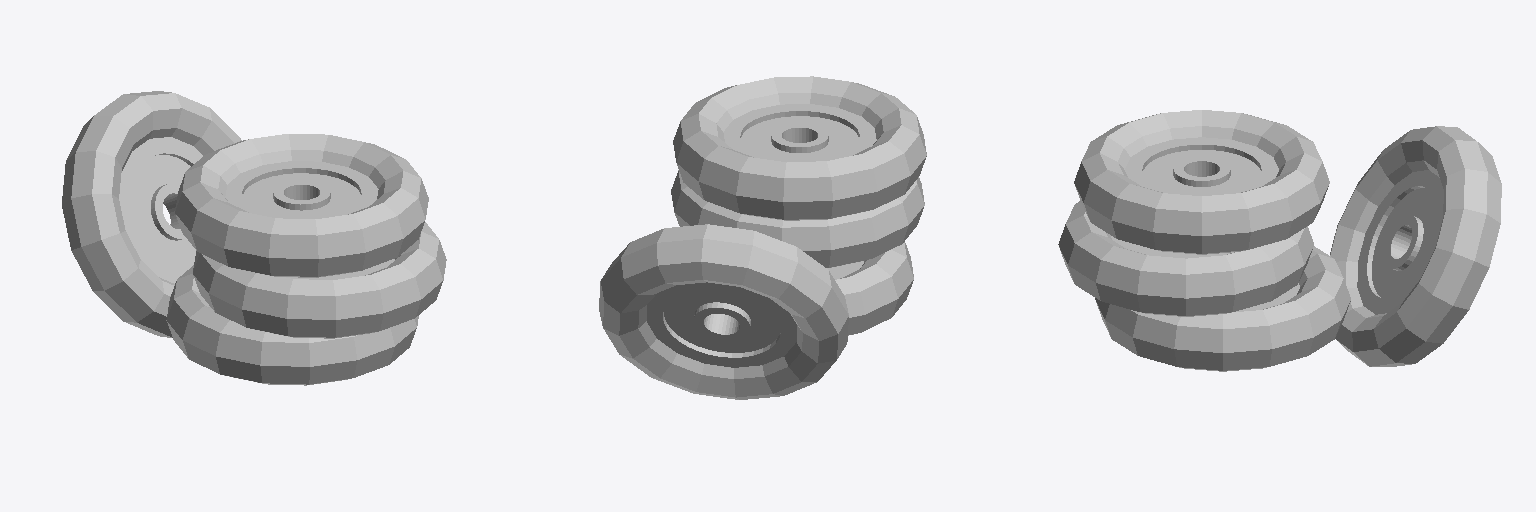
Rendered from stacked_tires.obj.
3 views of the same model, side by side, from view 1: azimuth 30°, elevation 25°; view 2: azimuth 150°, elevation 25°; view 3: azimuth 270°, elevation 25° (orthographic).
Visible parts, largest first — view 1: Torus, Torus.003, Torus.001, Torus.002; view 2: Torus.003, Torus, Torus.001, Torus.002; view 3: Torus.003, Torus, Torus.001, Torus.002.
Part boxes in pixels (x1,y1,x2,y2): Torus: (175,134,428,277); Torus.003: (62,91,241,337); Torus.001: (193,222,446,338); Torus.002: (166,265,418,385); Torus.003: (599,224,848,399); Torus: (673,76,926,220); Torus.001: (671,170,924,267); Torus.002: (827,242,913,335); Torus.003: (1330,126,1501,366); Torus: (1074,110,1329,254); Torus.001: (1058,201,1313,316); Torus.002: (1095,246,1350,371).
Size of the model in its own units: 3.21 by 2.55 by 4.82.